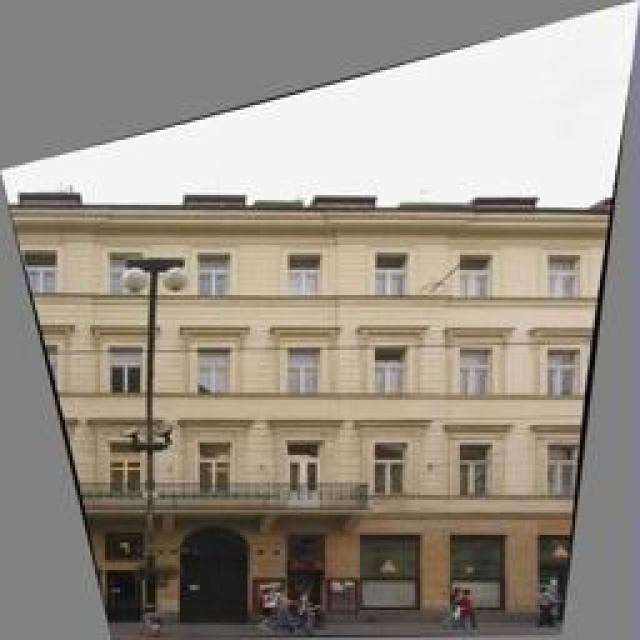building: (0, 165, 622, 640)
